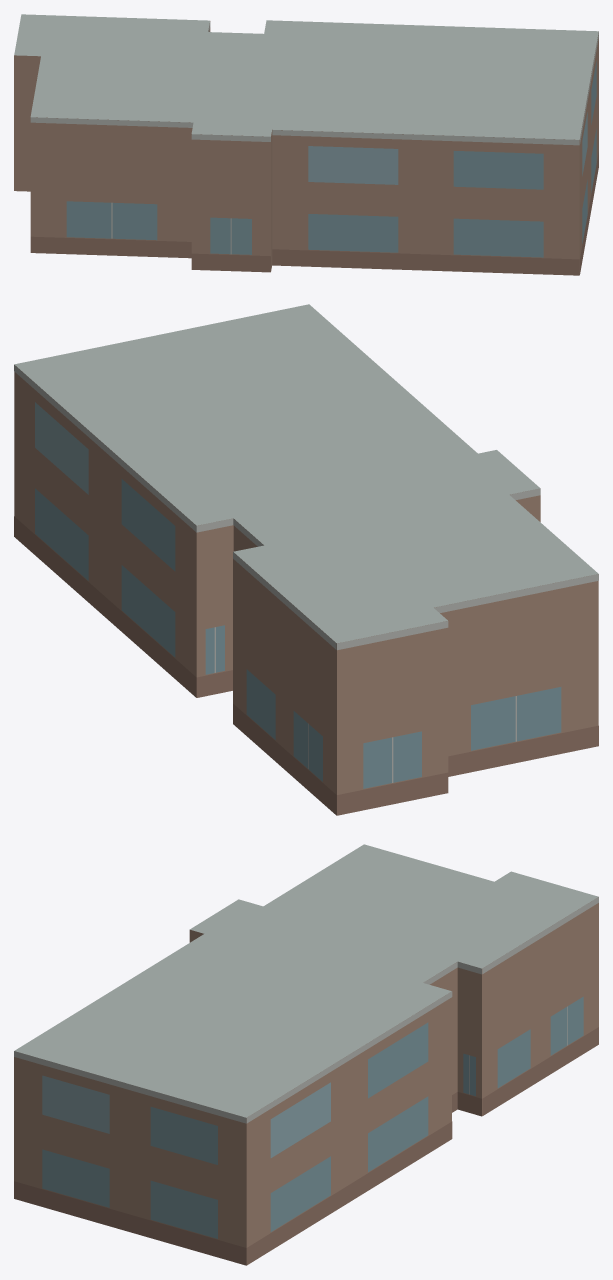
Rendered from survey-upis-32816610.glb.
3 views of the same model, one above another, from view 1: azimuth 30°, elevation 25°; view 2: azimuth 150°, elevation 25°; view 3: azimuth 270°, elevation 25° (orthographic). The views are drawn at different scales.
Parts seen in each view (by area): view 1: survey-upis-32816610.tmp; view 2: survey-upis-32816610.tmp; view 3: survey-upis-32816610.tmp.
Boxes of the visible parts, <box> form: survey-upis-32816610.tmp: <box>14,14,598,275</box>; survey-upis-32816610.tmp: <box>14,304,598,815</box>; survey-upis-32816610.tmp: <box>14,844,598,1265</box>.
Bounding box in the file's own units: 24.21 × 6.1 × 21.88.
